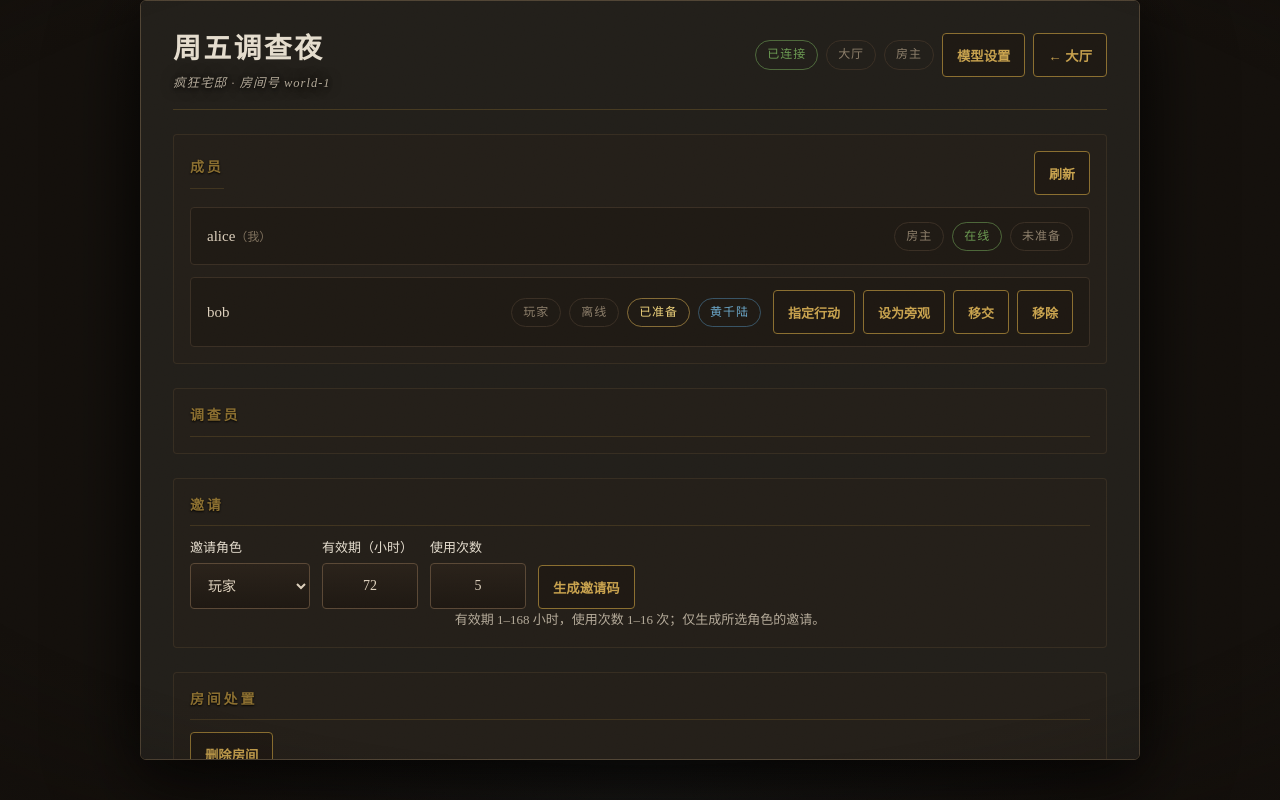
it: RoomScreen 邀请、退出与标题 › 保留无效有效期 ，不生成被改写的邀请
Clear the field labelled "有效期（小时）". click: (370, 586)
box: [322,564,418,610]
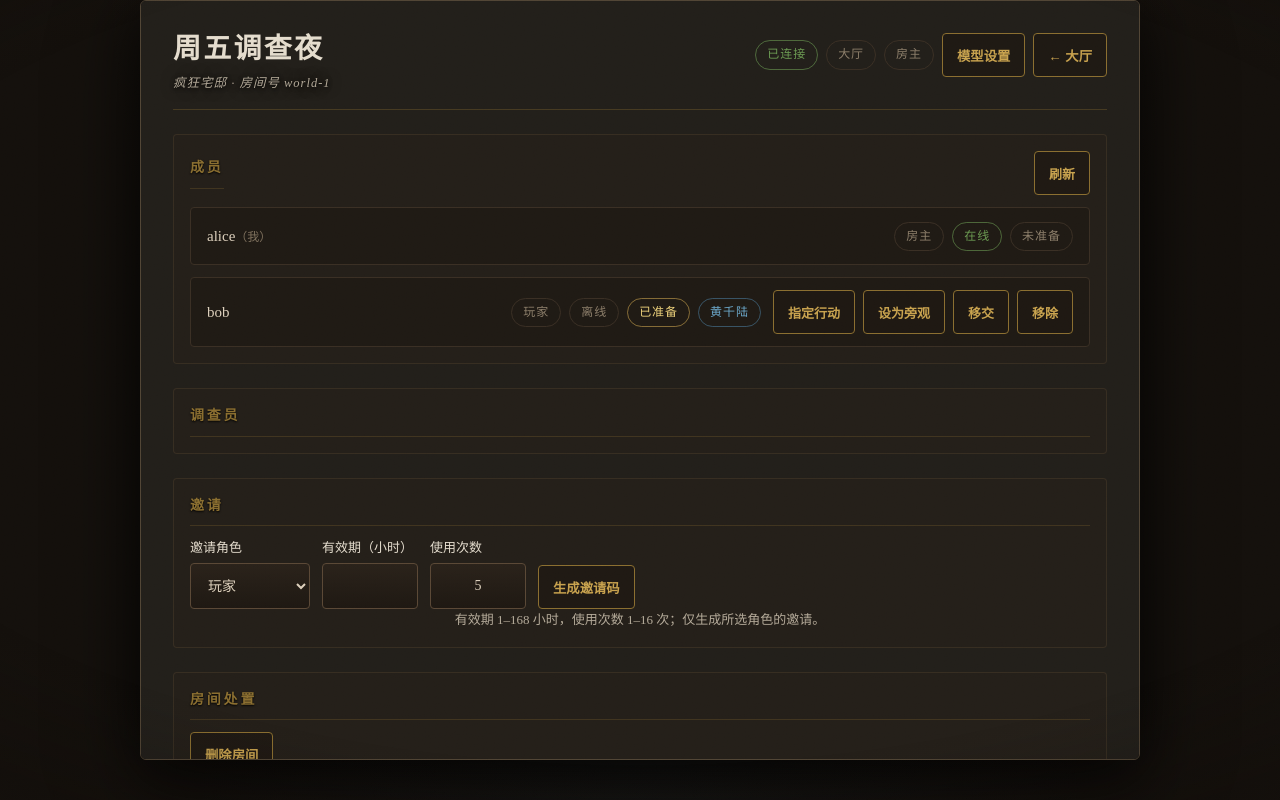
Click the button "生成邀请码". click: (586, 588)
box: [538,566,635,610]
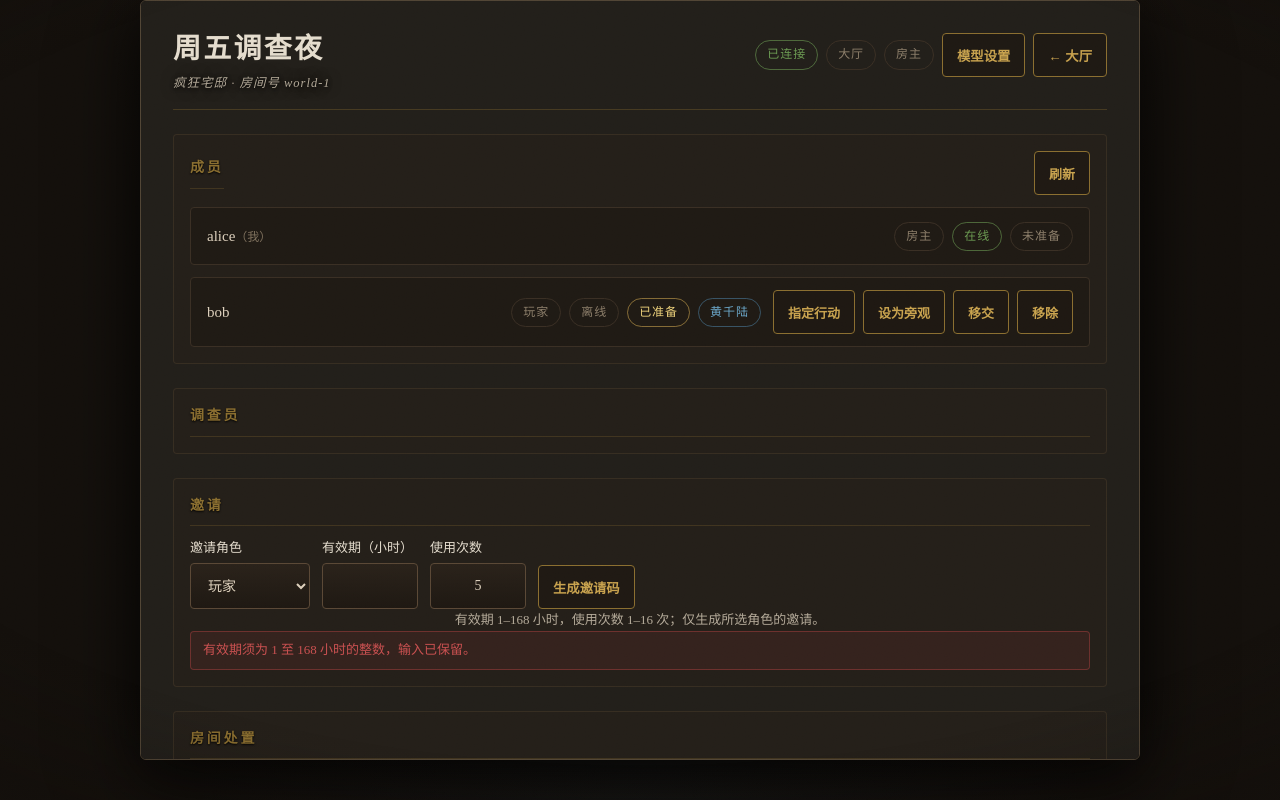
Expected: the message "有效期须为 1 至 168 小时的整数，输入已保留。" is shown, [190,631,1090,670]
